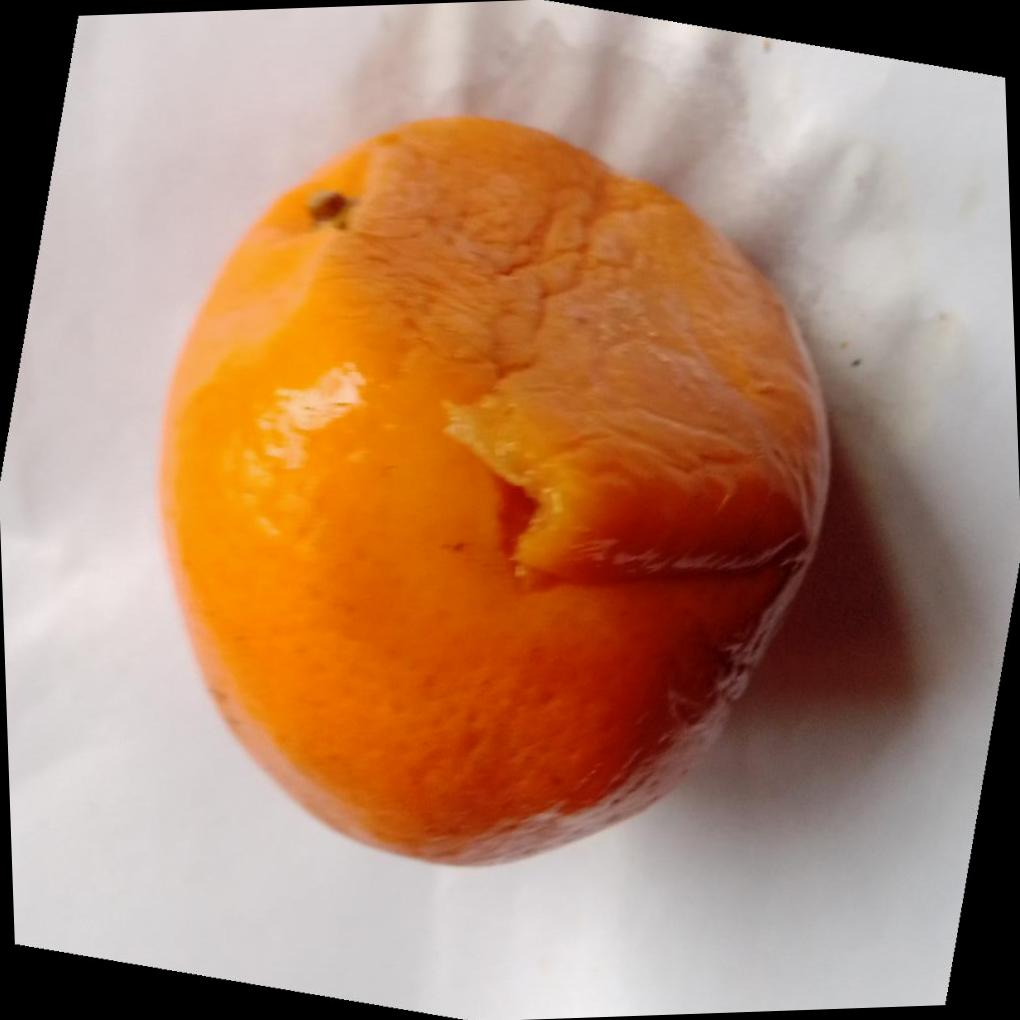FreshOrange: (159, 113, 837, 870)
